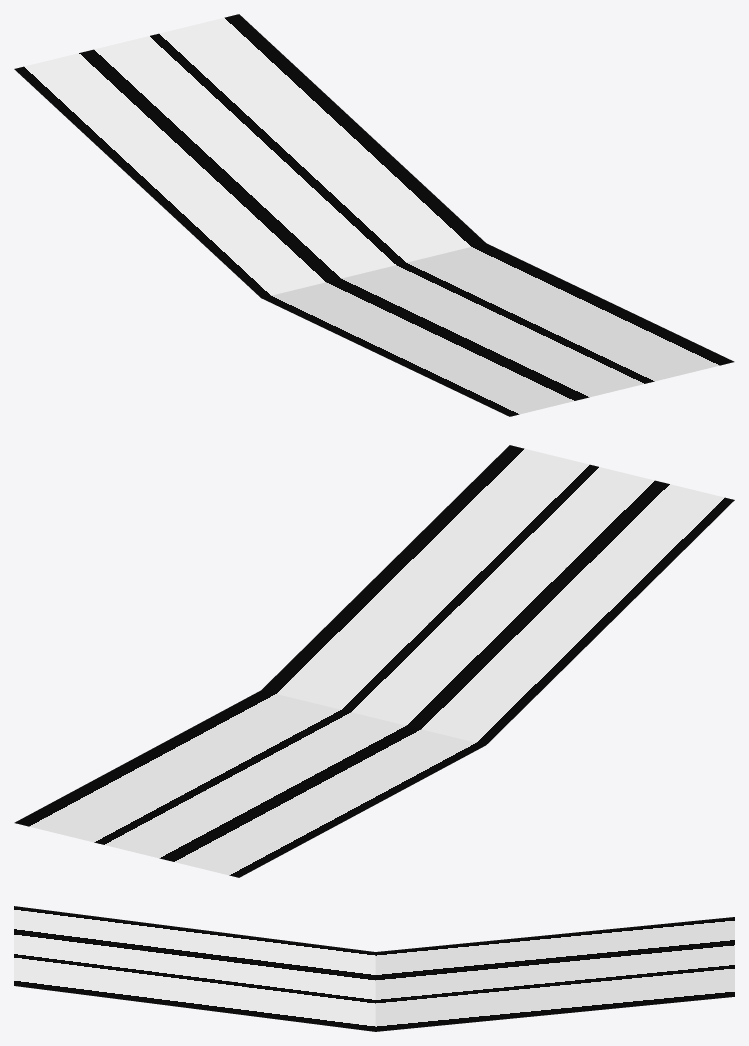
File: Kabel_Lichtleitung_x2_2597.glb
3 views of the same model, one above another, from view 1: azimuth 30°, elevation 25°; view 2: azimuth 150°, elevation 25°; view 3: azimuth 270°, elevation 25° (orthographic). The views are drawn at different scales.
Visible parts, largest first — view 1: pPlaneShape111; view 2: pPlaneShape111; view 3: pPlaneShape111.
Part boxes in pixels (bbox=[...]): pPlaneShape111: bbox=[14, 14, 734, 416]; pPlaneShape111: bbox=[14, 445, 734, 877]; pPlaneShape111: bbox=[14, 906, 734, 1031].
Size of the model in its own units: 0.132 by 0.0354 by 0.5032.
Materials: 1 (1 with a texture image).
